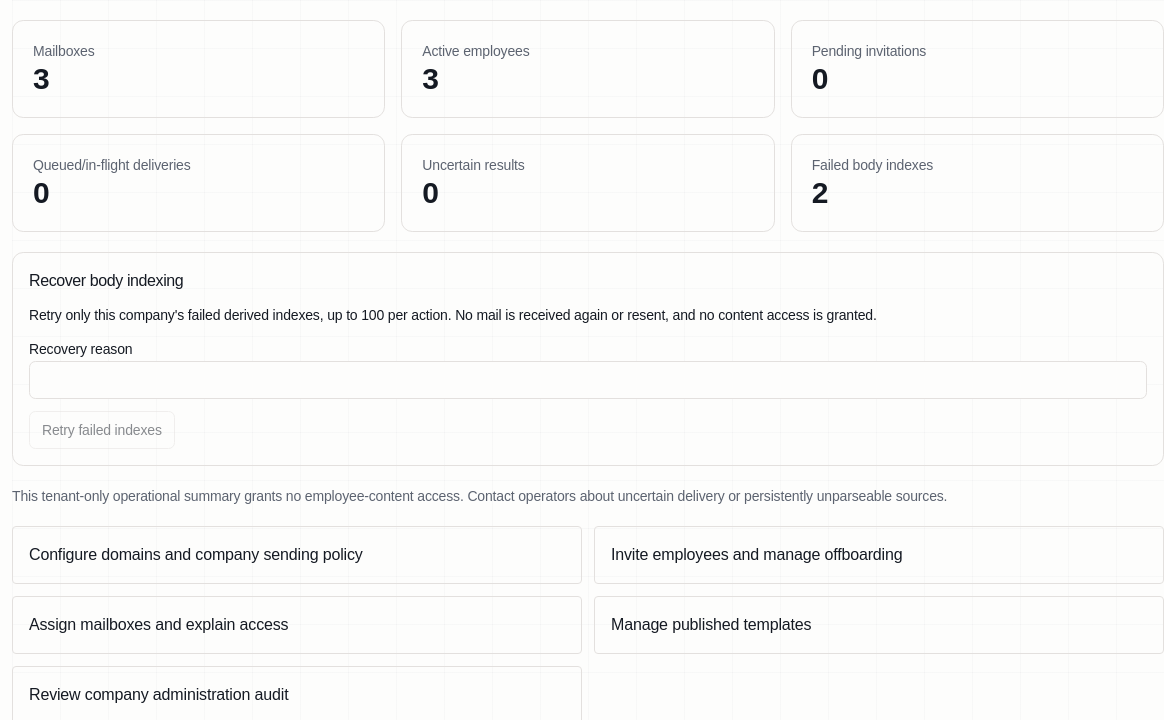
Test: requires a reason and refreshes the company summary after bounded index recovery
Check: the button "Retry failed indexes" is disabled, box [29,411,175,449]
In the field labelled "Recovery reason": (588, 380) [29,361,1147,399], type "Storage access restored and verified"
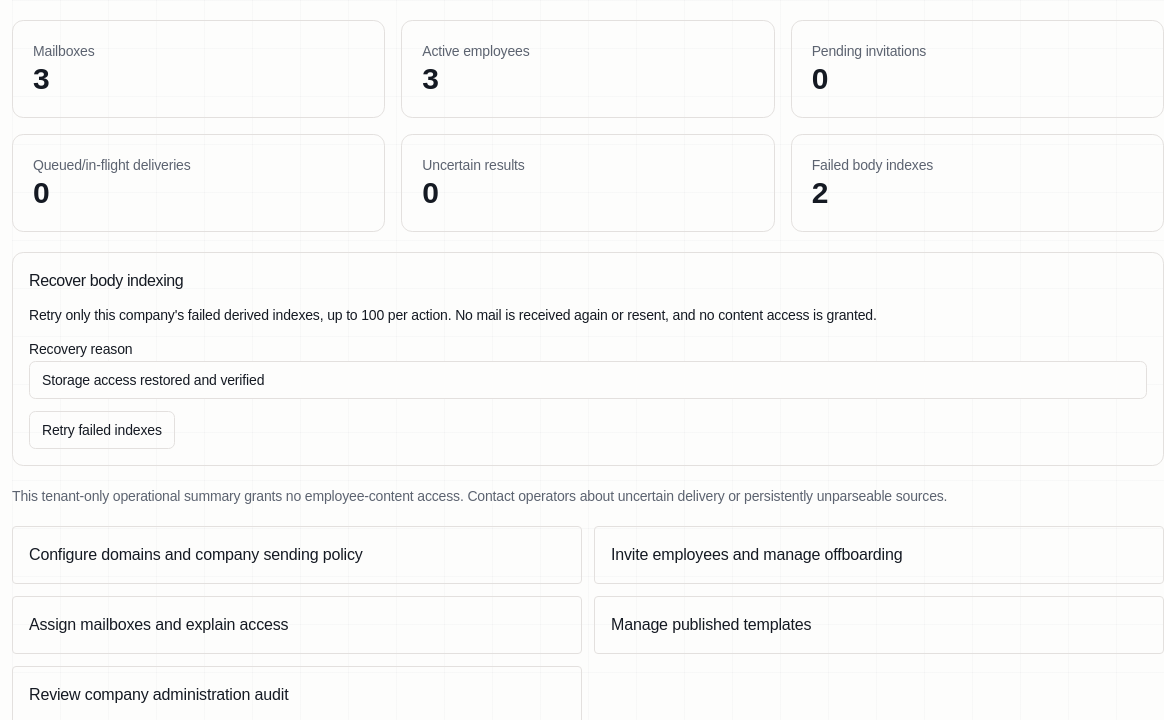
Click the button "Retry failed indexes": (102, 430) [29,411,175,449]
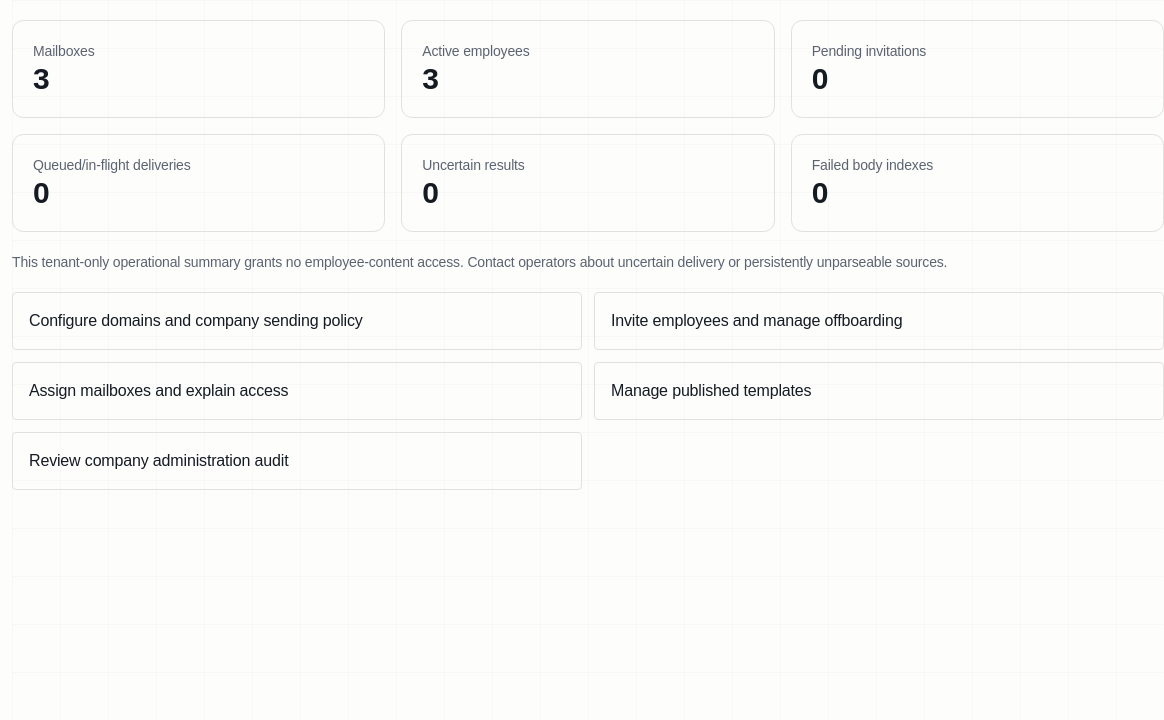
Check: the button "Retry failed indexes" is gone
